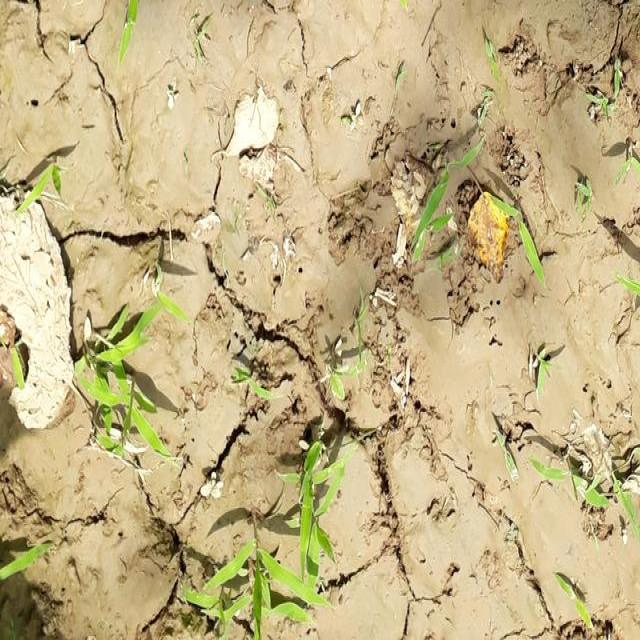weed: (198, 422, 355, 631), (80, 272, 175, 473)
